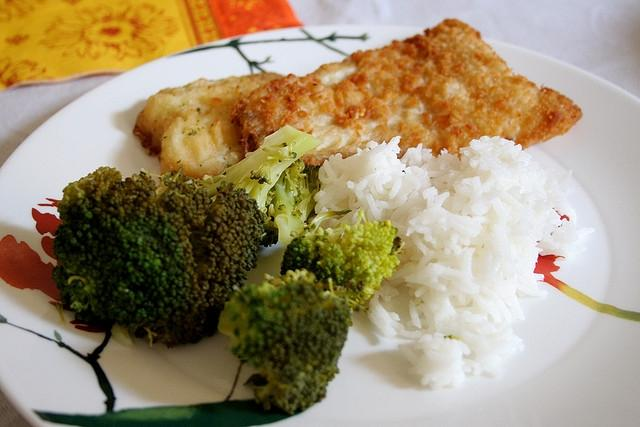broccoli: (52, 125, 325, 347), (218, 268, 360, 415), (280, 210, 404, 305), (265, 157, 309, 218)
